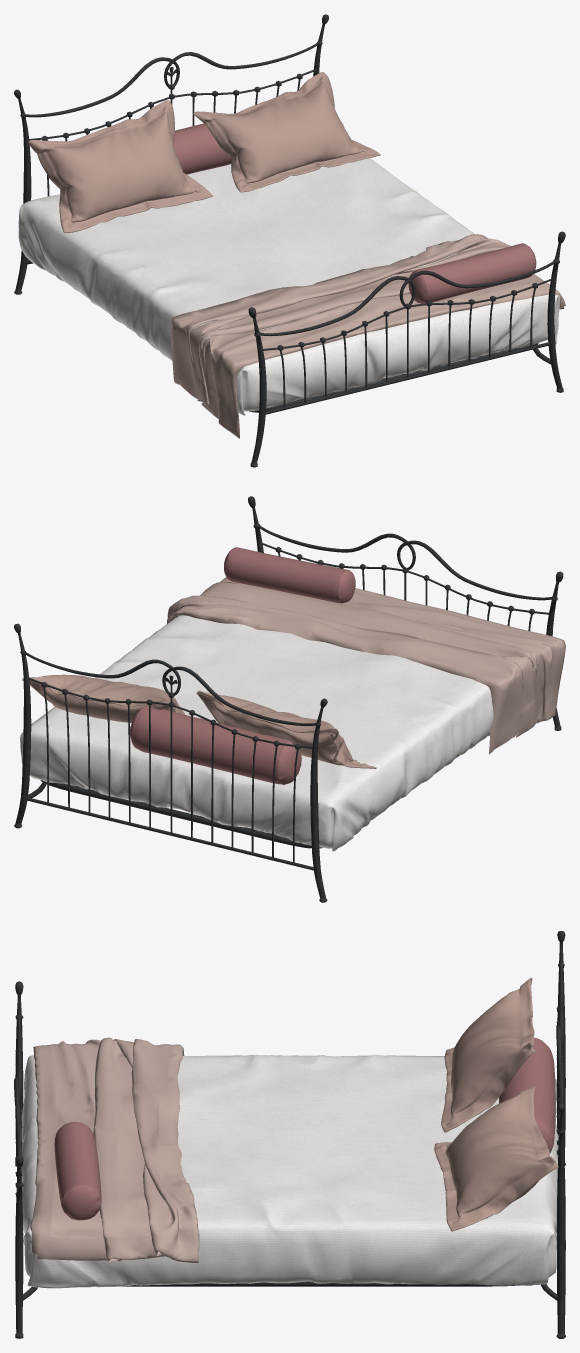
File: SofaCuero.glb
3 renders of one model, top to bottom at view 1: azimuth 30°, elevation 25°; view 2: azimuth 150°, elevation 25°; view 3: azimuth 270°, elevation 25°, orthographic. The views are drawn at different scales.
Parts seen in each view (by area): view 1: Mattress, Cloth, Pillow_1, Bed_Frame, Pillow_2, Capsule_Pillow_2, Capsule_Pillow_1; view 2: Mattress, Cloth, Bed_Frame, Capsule_Pillow_1, Capsule_Pillow_2, Pillow_1, Pillow_2; view 3: Mattress, Cloth, Pillow_2, Pillow_1, Bed_Frame, Capsule_Pillow_2, Capsule_Pillow_1.
Boxes of the visible parts, bbox=[...] form: Mattress: bbox=[18, 158, 559, 415]; Cloth: bbox=[170, 234, 565, 438]; Pillow_1: bbox=[28, 100, 213, 232]; Bed_Frame: bbox=[14, 14, 565, 467]; Pillow_2: bbox=[193, 72, 380, 192]; Capsule_Pillow_2: bbox=[408, 243, 536, 303]; Capsule_Pillow_1: bbox=[173, 123, 231, 174]; Mattress: bbox=[20, 615, 535, 851]; Cloth: bbox=[167, 577, 565, 754]; Bed_Frame: bbox=[14, 496, 563, 902]; Capsule_Pillow_1: bbox=[130, 706, 301, 784]; Capsule_Pillow_2: bbox=[224, 547, 355, 603]; Pillow_1: bbox=[196, 690, 376, 768]; Pillow_2: bbox=[22, 674, 204, 722]; Mattress: bbox=[21, 1054, 558, 1288]; Cloth: bbox=[30, 1037, 199, 1263]; Pillow_2: bbox=[434, 1086, 558, 1231]; Pillow_1: bbox=[441, 977, 535, 1132]; Bed_Frame: bbox=[14, 931, 565, 1338]; Capsule_Pillow_2: bbox=[54, 1121, 101, 1220]; Capsule_Pillow_1: bbox=[499, 1037, 555, 1153].
Size of the model in its own units: 176 by 99.38 by 212.
Materials: 5 (2 with a texture image).
